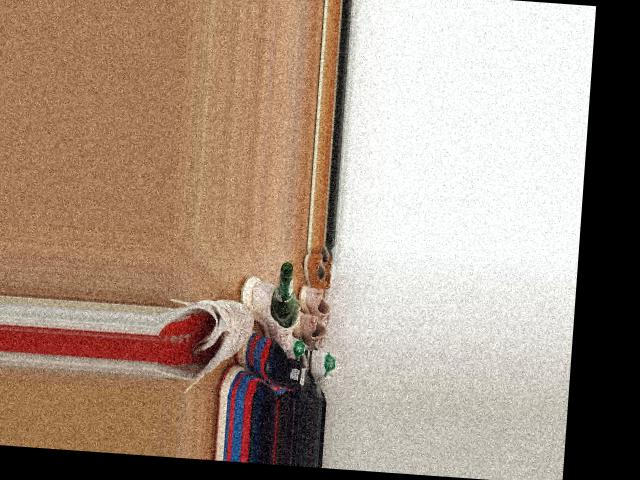beer: (269, 260, 297, 328)
